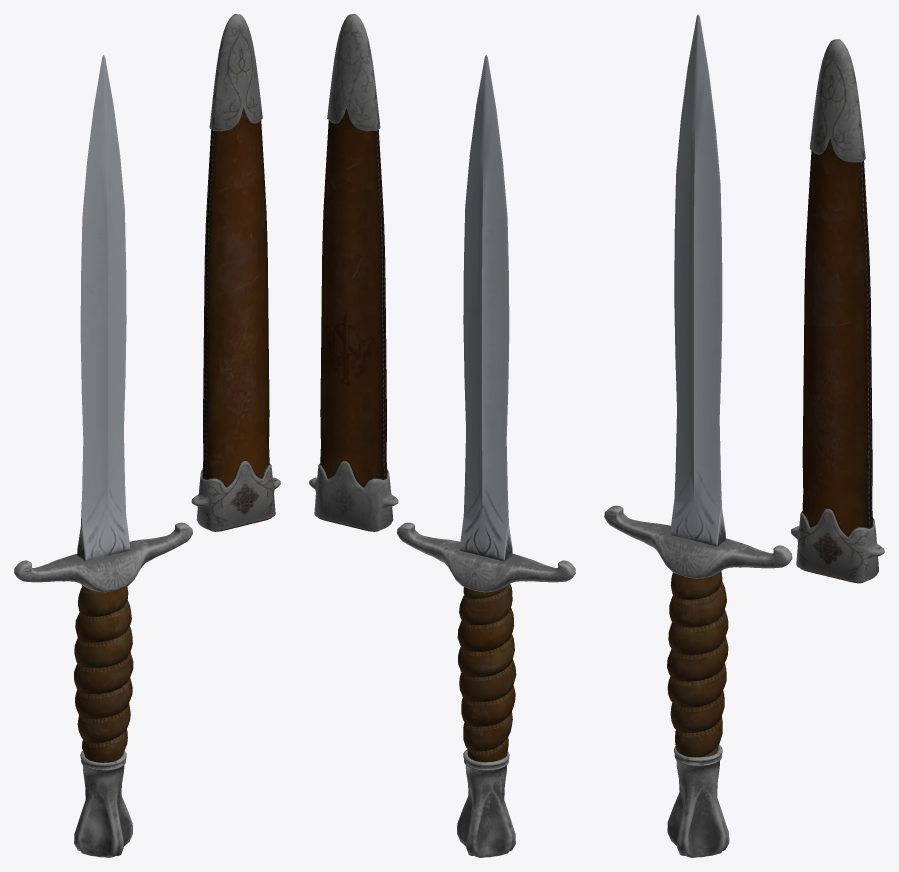
Rendered from ornate_medieval_dagger.glb.
The picture shows the model from 3 angles, left to right: view 1: azimuth 30°, elevation 25°; view 2: azimuth 150°, elevation 25°; view 3: azimuth 330°, elevation 25°; orthographic projection. The views are drawn at different scales.
Parts seen in each view (by area): view 1: ornate_medieval_dagger; view 2: ornate_medieval_dagger; view 3: ornate_medieval_dagger.
Boxes of the visible parts, x1,y1,x2,y2 form: ornate_medieval_dagger: (14, 14, 280, 857); ornate_medieval_dagger: (309, 14, 575, 857); ornate_medieval_dagger: (604, 14, 884, 857).
Bounding box in the file's own units: 0.1201 × 0.3489 × 0.025.
1 material, 1 textured.
